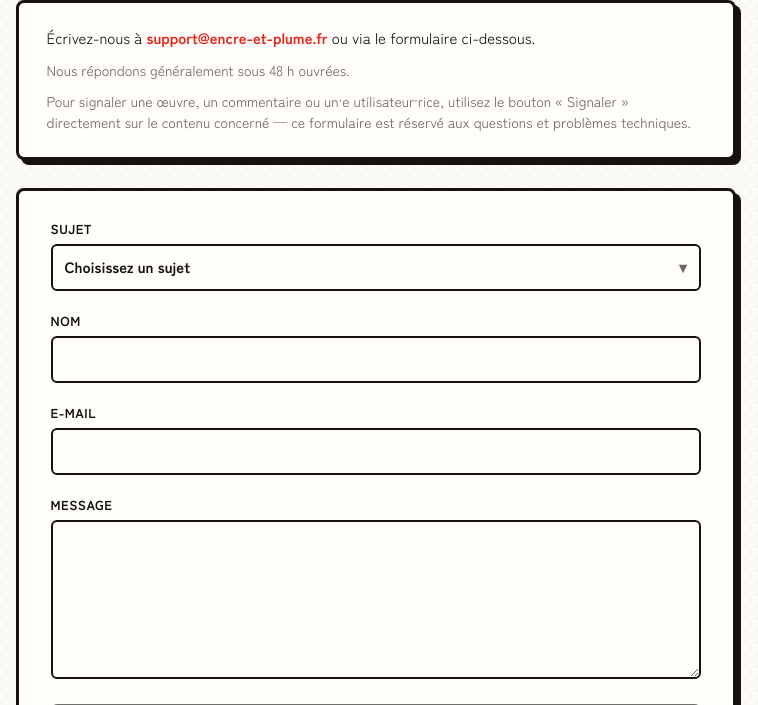
Test: ContactClient › renders the 4 French category labels in a labelled select
Click the dropdown labelled "Choisissez un sujet ▾" at (127, 266), box [50,244,700,290]
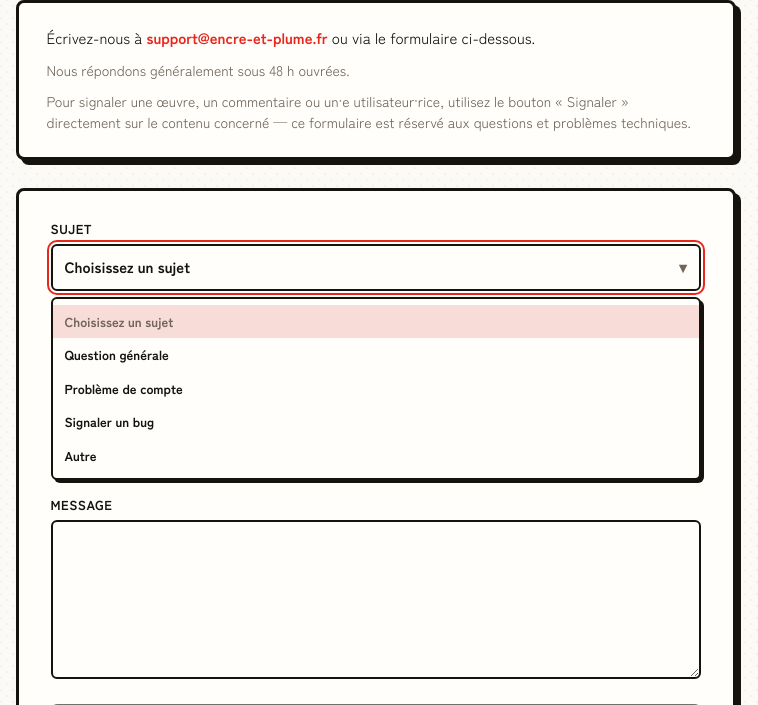
Result: the option "Question générale" is shown at [64,345,169,364]
Result: the option "Problème de compte" is shown at [64,378,183,398]
Result: the option "Signaler un bug" is shown at [64,412,154,431]
